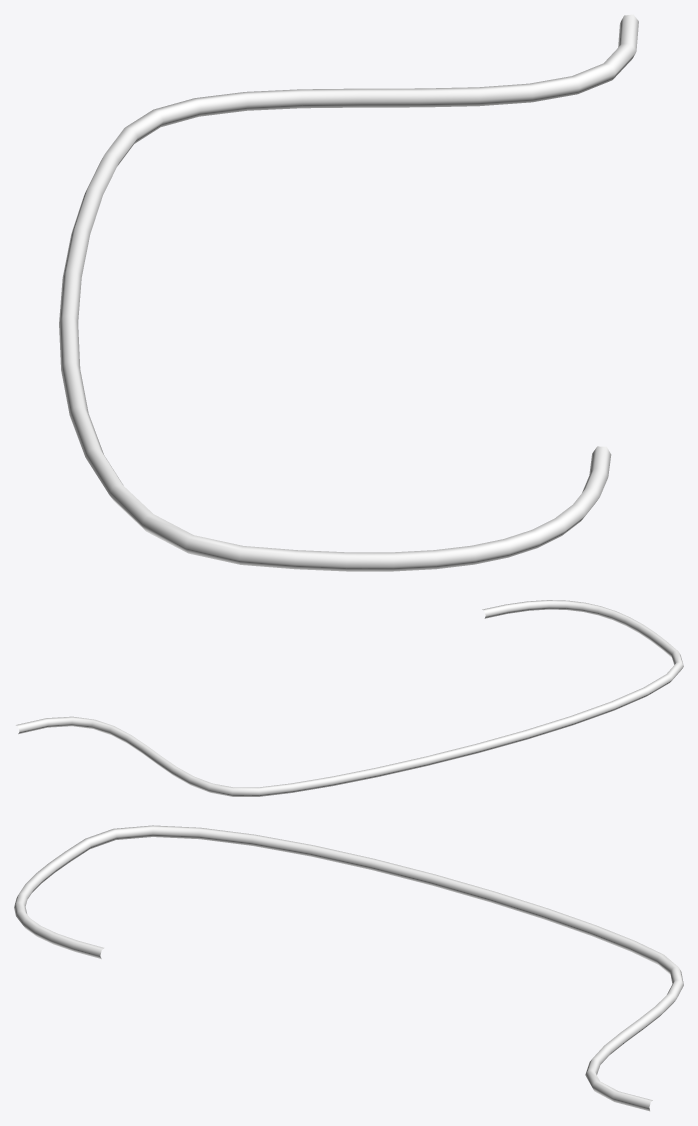
Rendered from cable.glb.
3 renders of one model, top to bottom at view 1: azimuth 30°, elevation 25°; view 2: azimuth 150°, elevation 25°; view 3: azimuth 270°, elevation 25°, orthographic. The views are drawn at different scales.
Parts seen in each view (by area): view 1: Mesh; view 2: Mesh; view 3: Mesh.
Part boxes in pixels (<box>): Mesh: <box>59,14,638,571</box>; Mesh: <box>16,600,683,796</box>; Mesh: <box>14,825,683,1111</box>.
Bounding box in the file's own units: 1.97 × 0.0732 × 2.08.
Materials: 1 (1 with a texture image).
